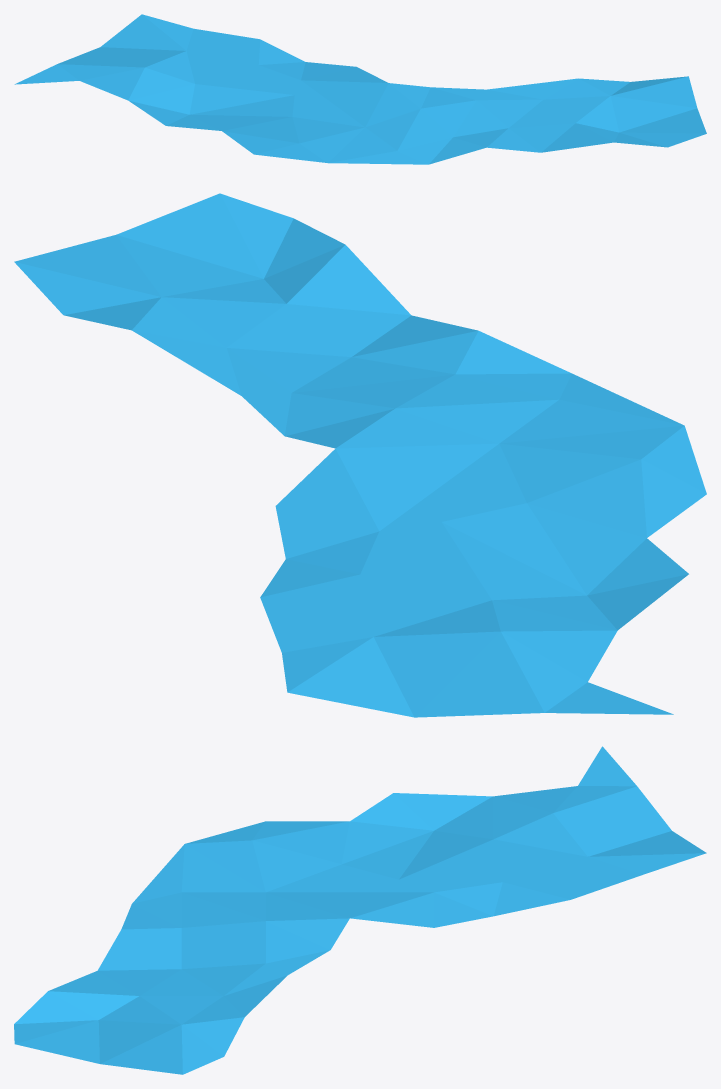
The model's file is Ice_planet_water_003.FBX.
The picture shows the model from 3 angles, top to bottom: view 1: azimuth 30°, elevation 25°; view 2: azimuth 150°, elevation 25°; view 3: azimuth 270°, elevation 25°; orthographic projection. The views are drawn at different scales.
Visible parts, largest first — view 1: 003_ICE PLANET_WATER.001; view 2: 003_ICE PLANET_WATER.001; view 3: 003_ICE PLANET_WATER.001.
Part boxes in pixels (<box>): 003_ICE PLANET_WATER.001: <box>14,14,706,164</box>; 003_ICE PLANET_WATER.001: <box>14,193,706,717</box>; 003_ICE PLANET_WATER.001: <box>14,746,706,1074</box>.
Size of the model in its own units: 1325 by 35.73 by 1180.
